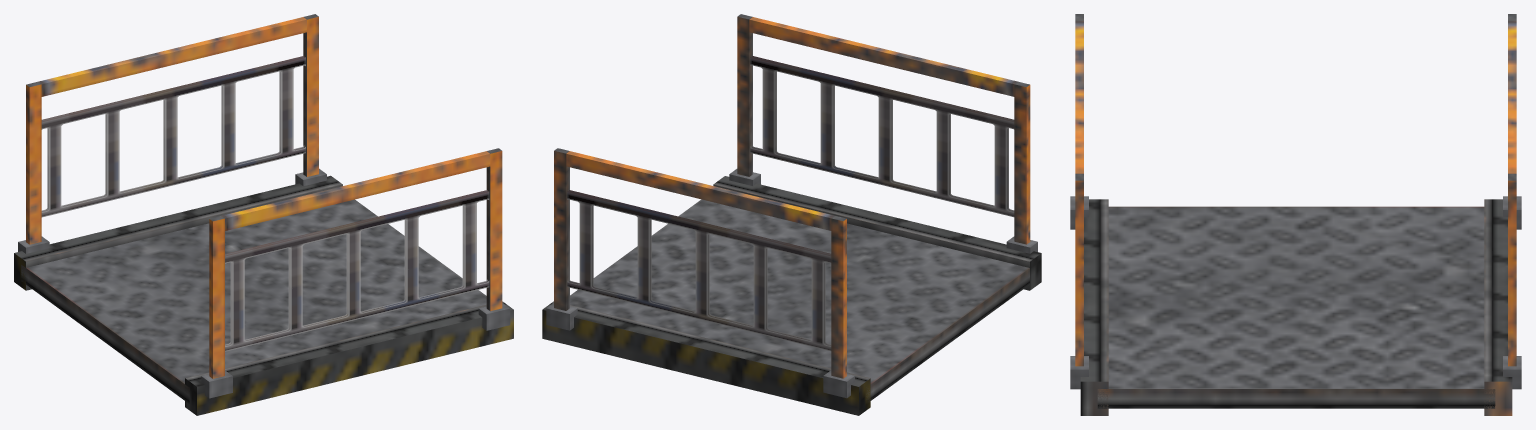
The model's file is MO_METAL_WALKWAY_03.fbx.
The picture shows the model from 3 angles, left to right: view 1: azimuth 30°, elevation 25°; view 2: azimuth 150°, elevation 25°; view 3: azimuth 270°, elevation 25°; orthographic projection. The views are drawn at different scales.
Parts seen in each view (by area): view 1: MO_METAL_WALKWAY_03; view 2: MO_METAL_WALKWAY_03; view 3: MO_METAL_WALKWAY_03.
Part boxes in pixels (x1=…): MO_METAL_WALKWAY_03: x1=14, y1=14, x2=513, y2=415; MO_METAL_WALKWAY_03: x1=542, y1=14, x2=1041, y2=415; MO_METAL_WALKWAY_03: x1=1070, y1=14, x2=1521, y2=415.
Bounding box in the file's own units: 2 × 1.16 × 2.09.
